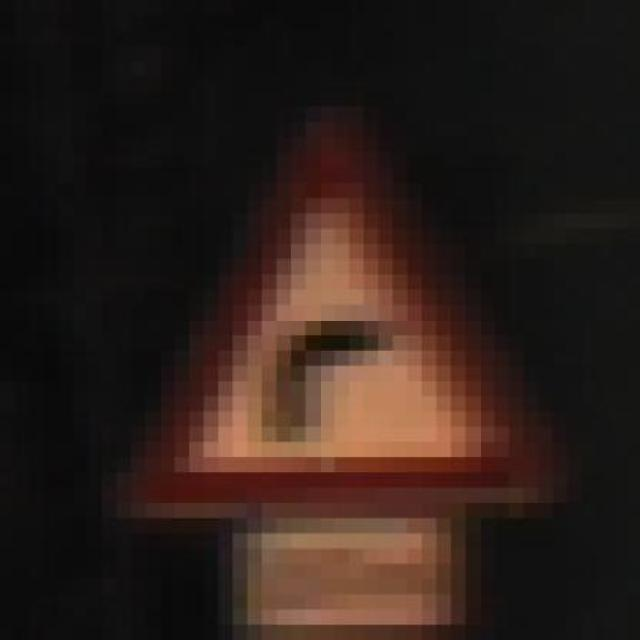Dangerous Rright Curve Ahead: (102, 106, 568, 519)
